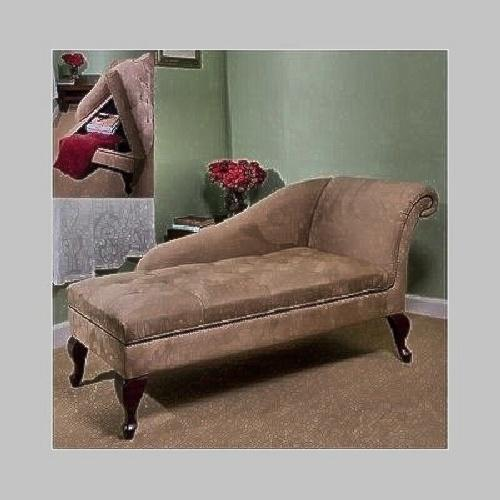sofa: (83, 191, 427, 386)
